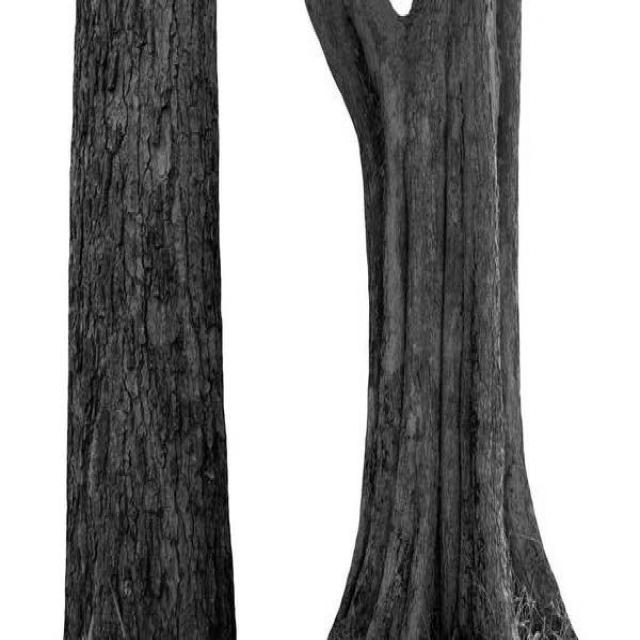Tree: (309, 0, 576, 639), (55, 0, 236, 639)
